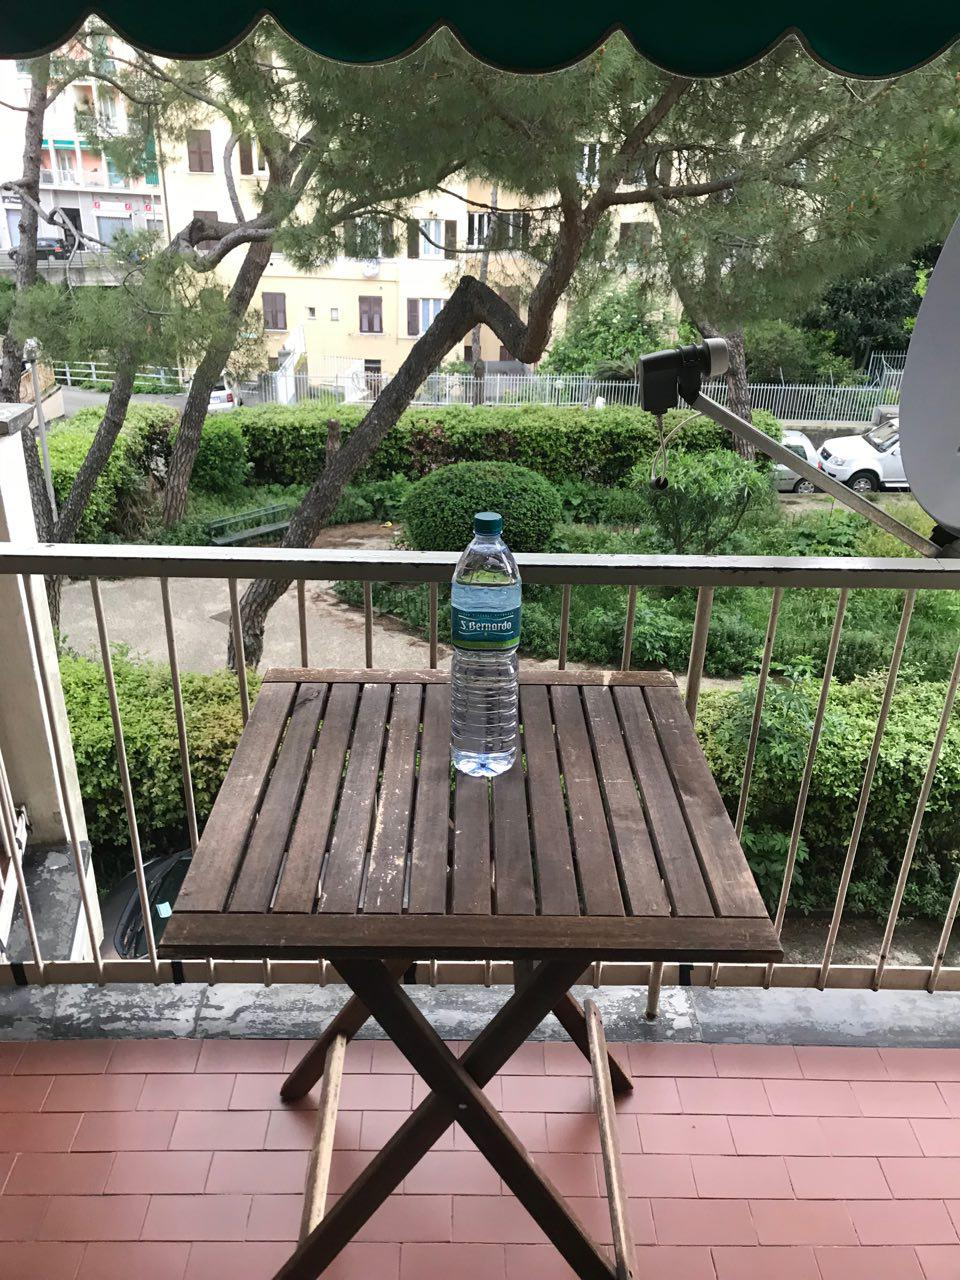san_bernardo: (449, 511, 522, 778)
